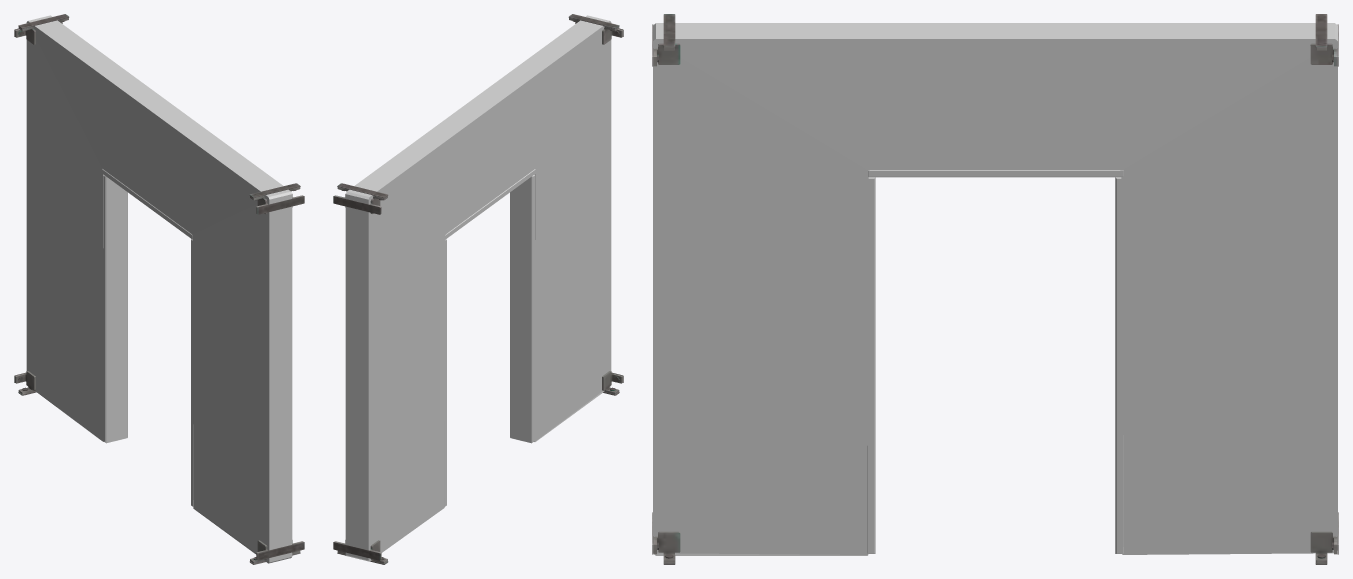
Rendered from SM_Doorbase_Glass_4566fd.glb.
3 views of the same model, side by side, from view 1: azimuth 30°, elevation 25°; view 2: azimuth 150°, elevation 25°; view 3: azimuth 270°, elevation 25° (orthographic). The views are drawn at different scales.
Bounding box in the file's own units: 0.4499 × 3.34 × 4.01.
2 materials, 1 textured.
